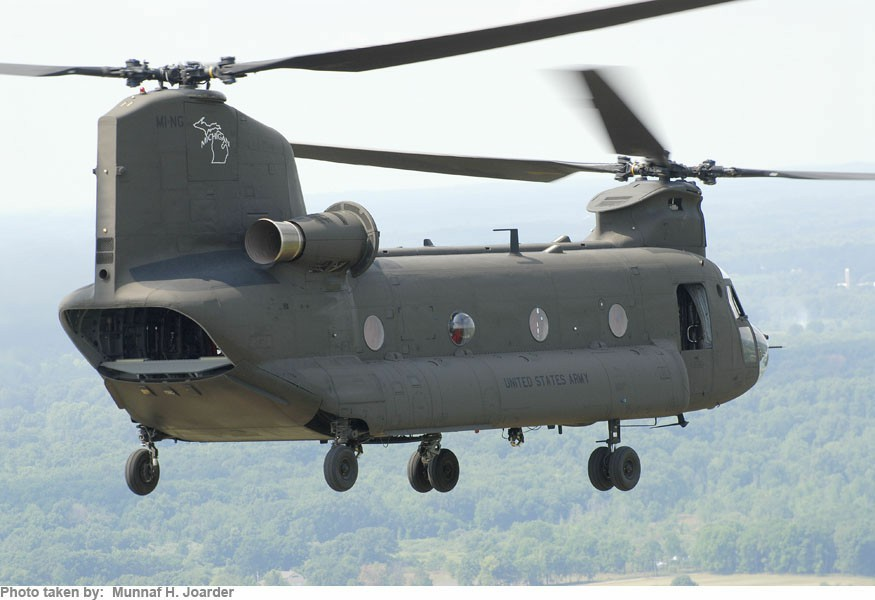chinook: (13, 12, 838, 497)
